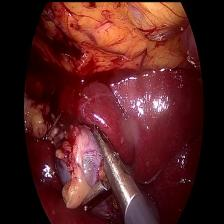Grasper: (76, 116, 131, 215)
